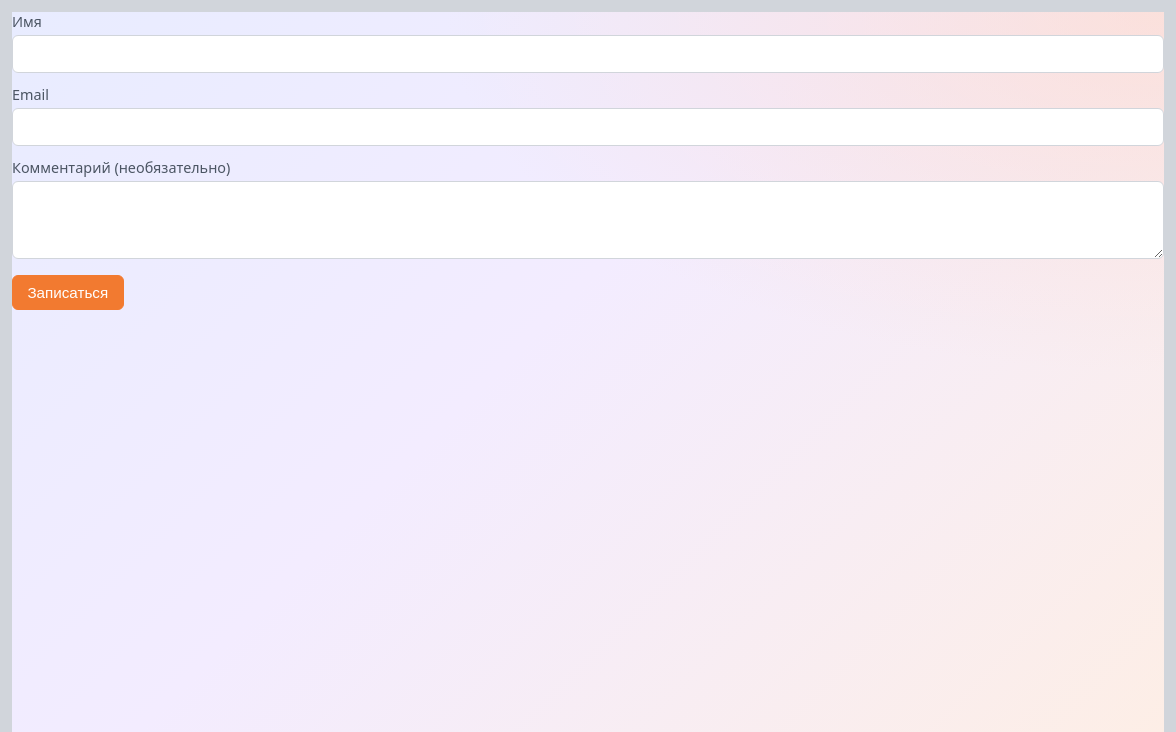
BookingForm › валидирует email перед отправкой
Type "Иван" into the field labelled "Имя" at (588, 54), box [12, 35, 1164, 73]
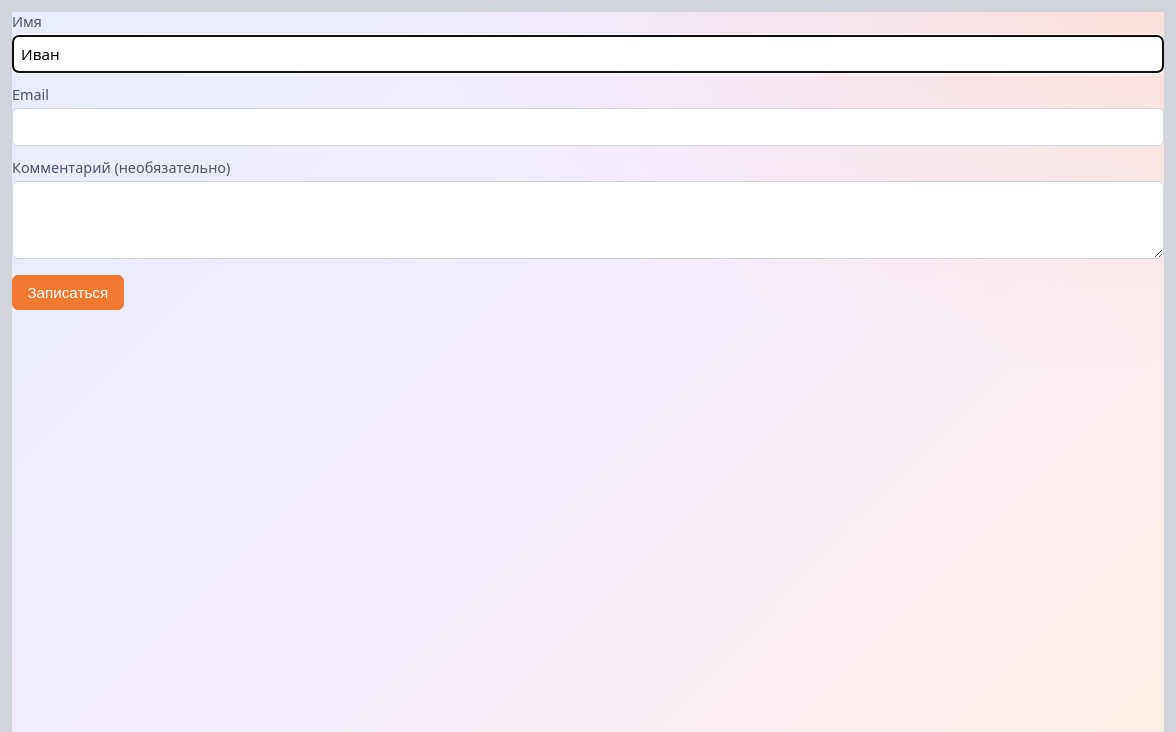
Type "invalid-email" into the field labelled "Email" at (588, 127), box [12, 108, 1164, 146]
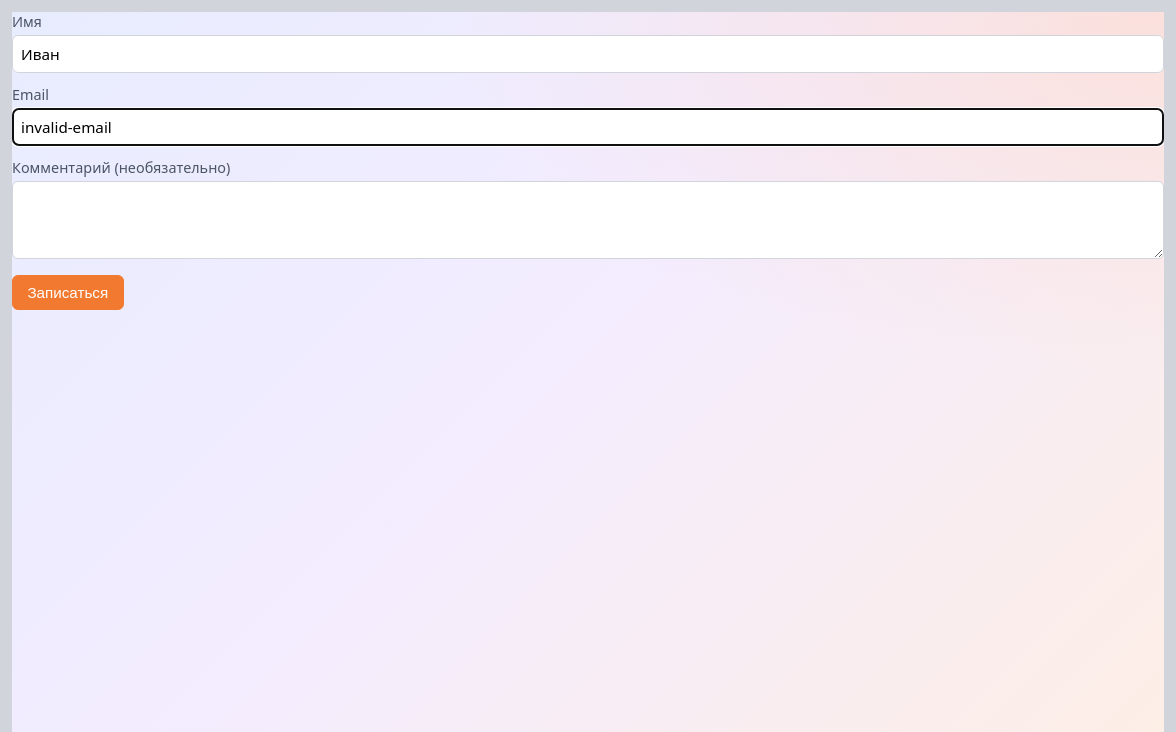
Click the button "Записаться" at (68, 292), box [12, 275, 124, 310]
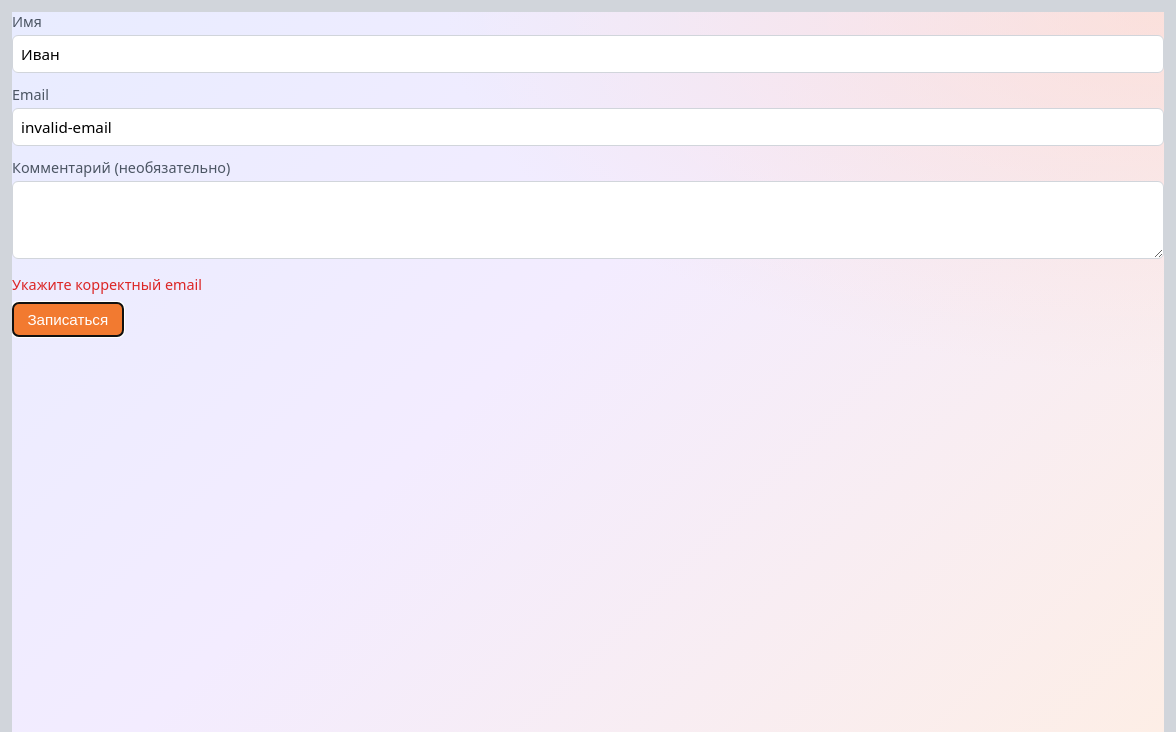
Now the message shows "email", box [12, 275, 202, 294]
